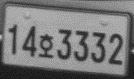1: (7, 22, 17, 55)
2: (107, 32, 123, 65)
3: (56, 28, 72, 60), (73, 29, 88, 61), (90, 31, 105, 63)
4: (21, 24, 37, 57)
호: (37, 32, 55, 58)
